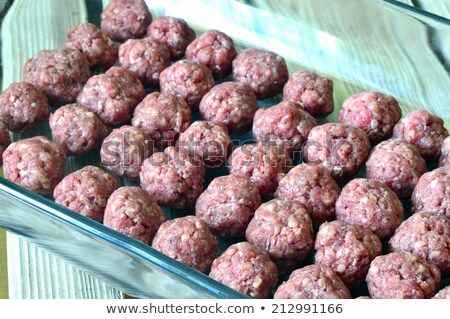ground_beef: (87, 41, 395, 275)
